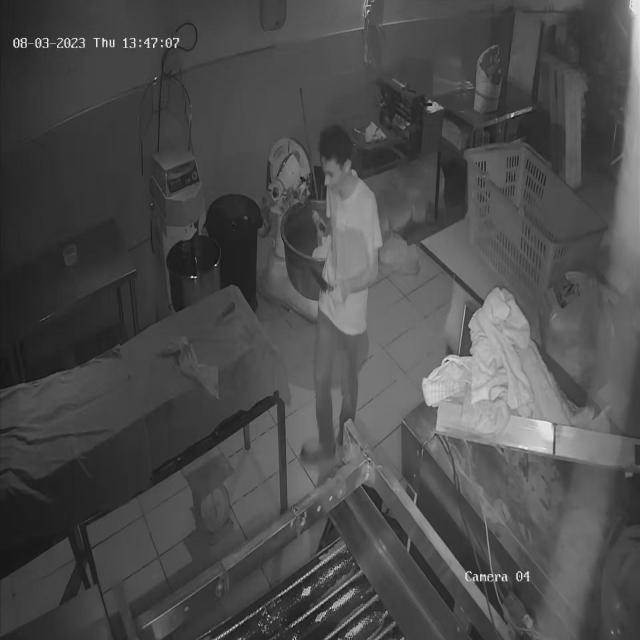Knife: (300, 260, 344, 298)
